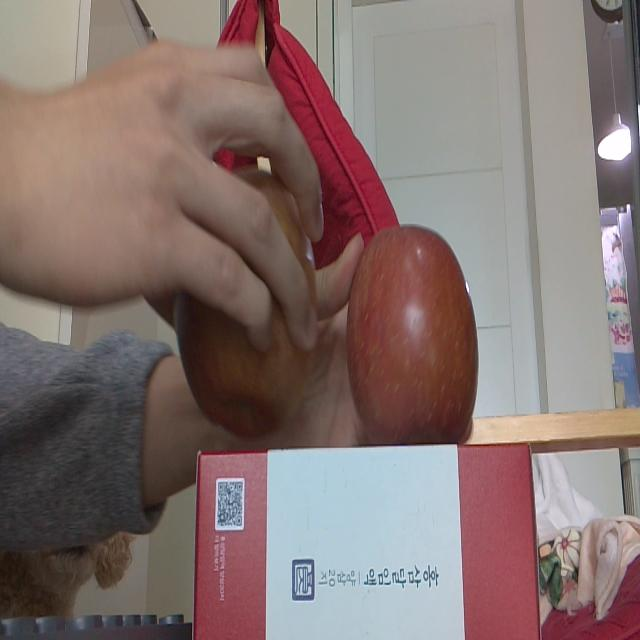apple: (177, 169, 317, 433), (348, 222, 478, 444)
